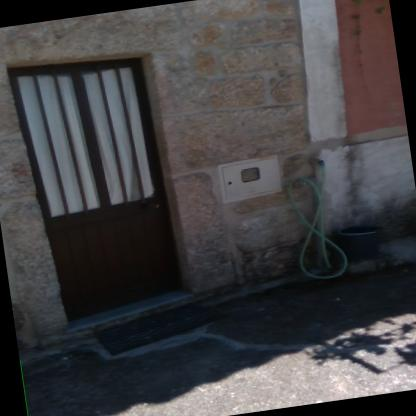closed: (0, 33, 215, 329)
